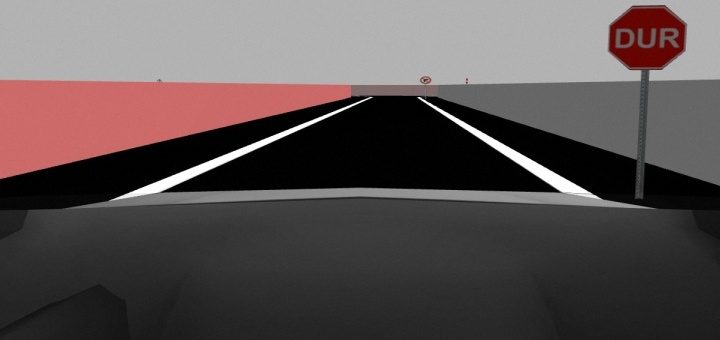dur: (605, 4, 689, 73)
